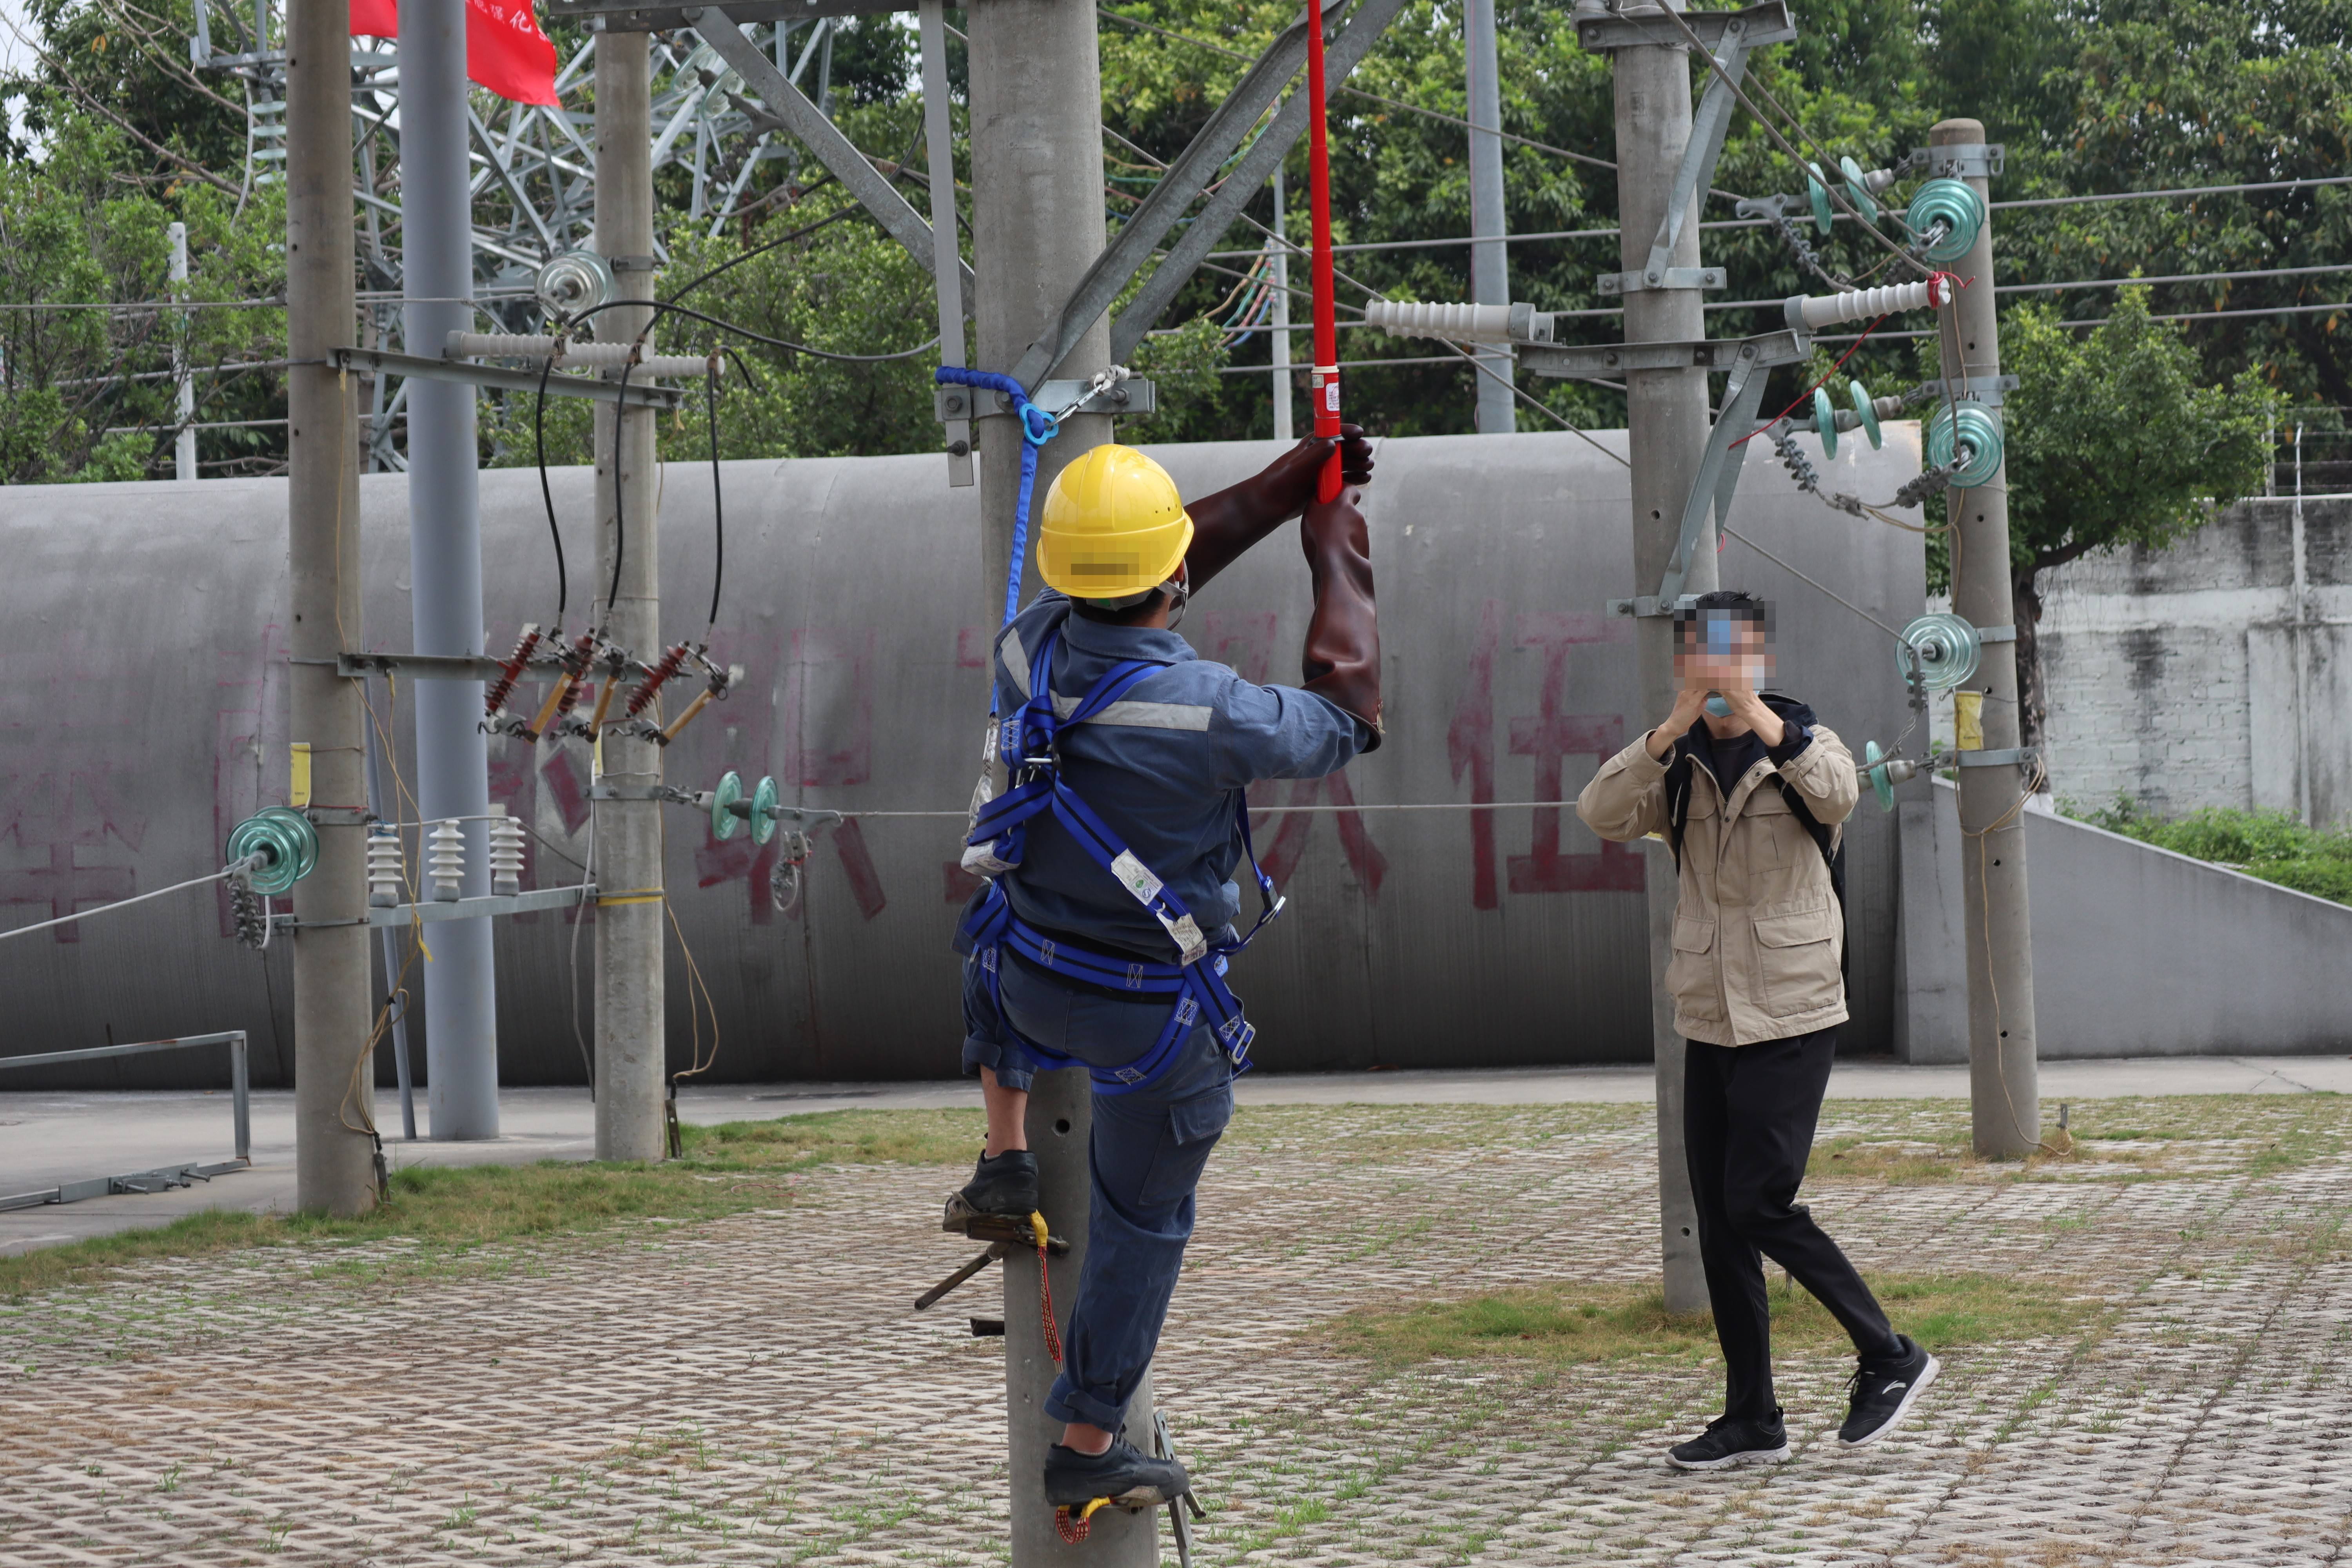downcloth: (1690, 1050, 1883, 1407)
downsuit: (1048, 1090, 1244, 1421)
upcloth: (1607, 721, 1858, 1038)
upsuit: (935, 618, 1360, 1069)
wrongbottom: (964, 1034, 1038, 1153)
